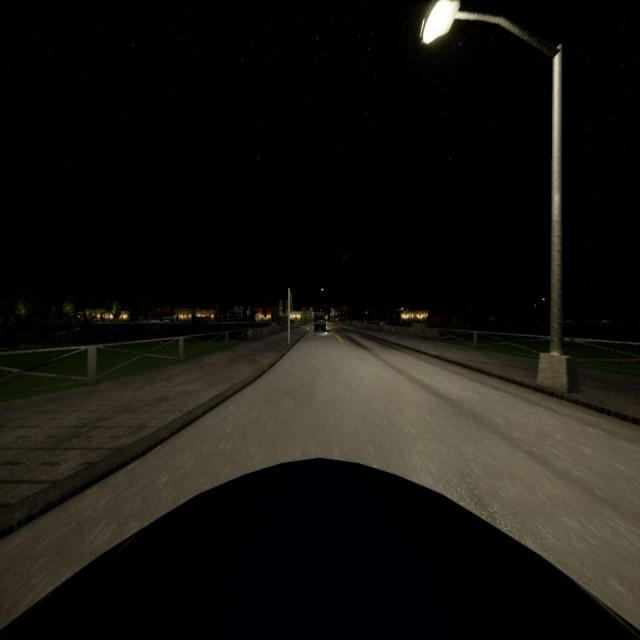Vehicle: (0, 453, 640, 640), (314, 312, 325, 332)
